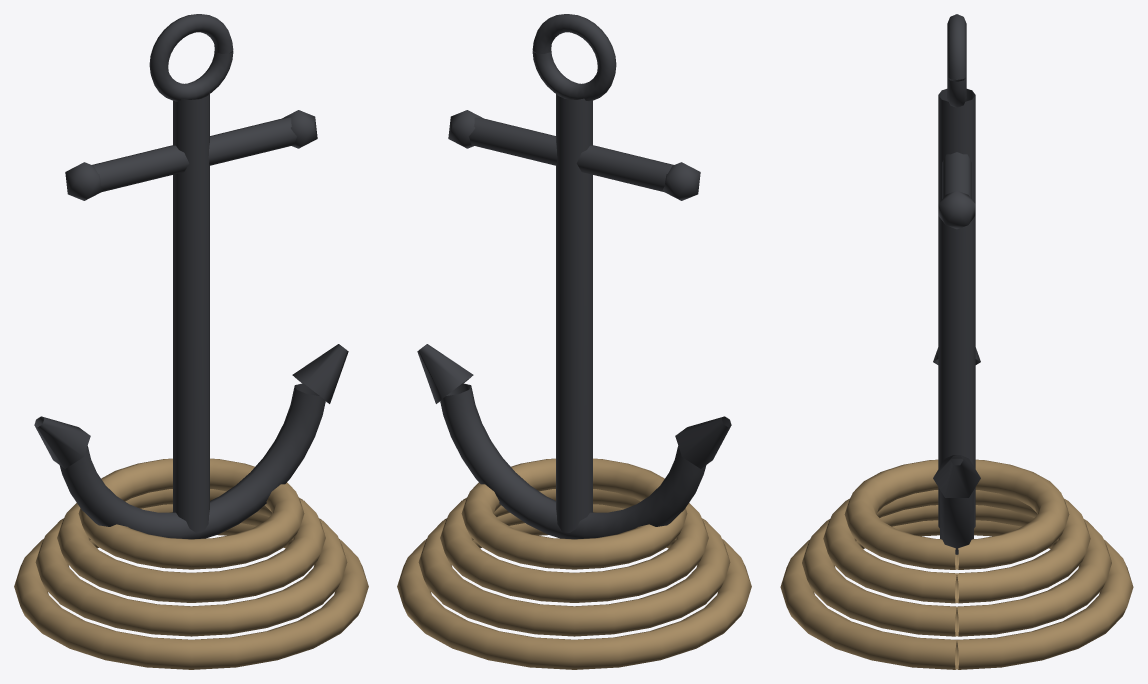
Rendered from furn_anchor_deco.glb.
3 views of the same model, side by side, from view 1: azimuth 30°, elevation 25°; view 2: azimuth 150°, elevation 25°; view 3: azimuth 270°, elevation 25° (orthographic).
Visible parts, largest first — view 1: furn_anchor_deco_main; view 2: furn_anchor_deco_main; view 3: furn_anchor_deco_main.
Part boxes in pixels (left/top/right/bottom): furn_anchor_deco_main: left=14, top=14, right=368, bottom=669; furn_anchor_deco_main: left=397, top=14, right=751, bottom=669; furn_anchor_deco_main: left=780, top=14, right=1133, bottom=669.
Size of the model in its own units: 0.6683 by 1.2 by 0.66.
